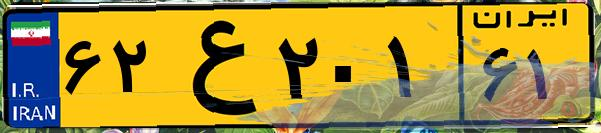0: (330, 28, 385, 110)
1: (385, 28, 445, 110), (525, 38, 570, 115)
2: (270, 28, 330, 110), (110, 28, 158, 98)
6: (57, 26, 110, 100), (475, 38, 525, 113)
ع: (158, 12, 270, 120)
